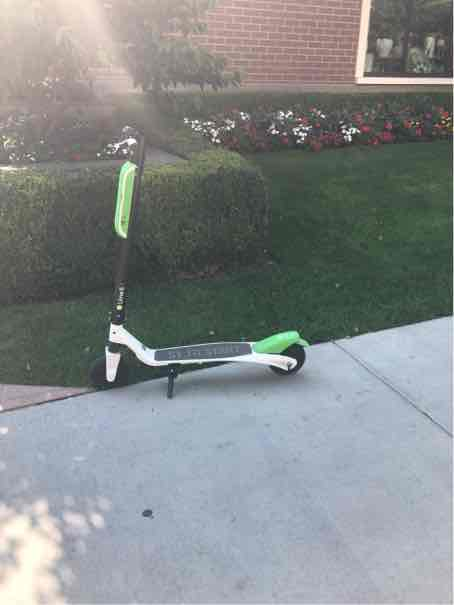scooter: (80, 117, 320, 395)
